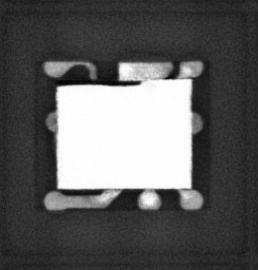DIE_BROKEN: (55, 78, 142, 88)
